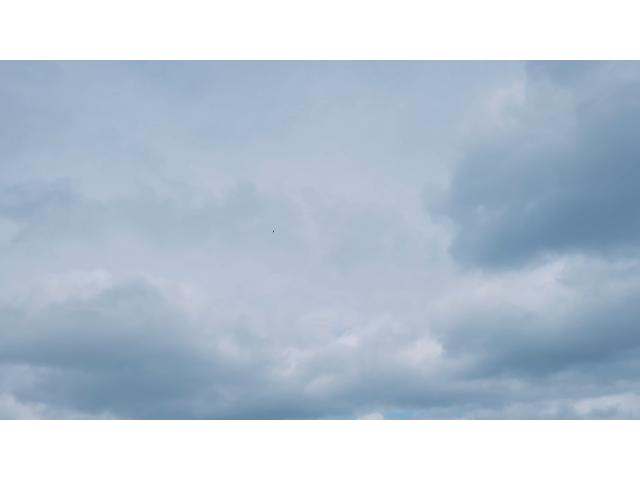Anti-Drone: (268, 226, 278, 236)
